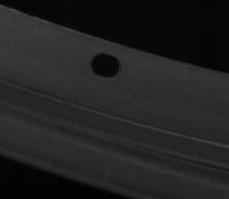holes: (90, 51, 121, 78)
